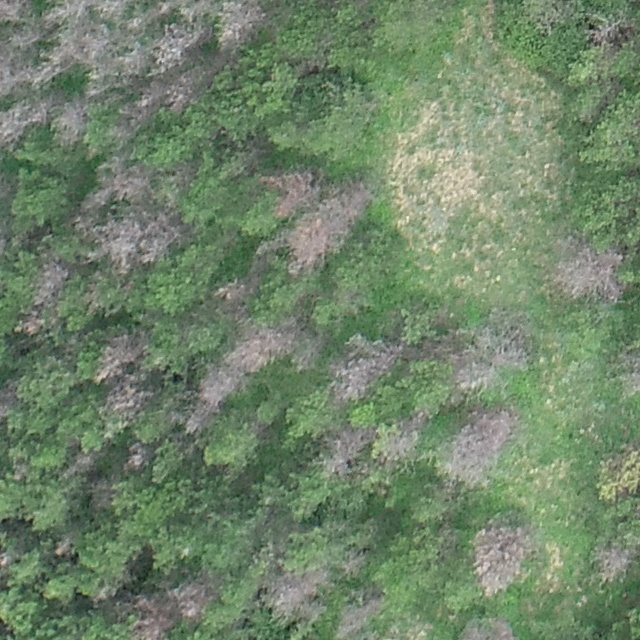unhealthy: (286, 184, 370, 271), (449, 320, 531, 391), (445, 405, 518, 481), (328, 337, 398, 406), (553, 242, 623, 301), (472, 524, 528, 594), (262, 566, 326, 621), (225, 323, 291, 373), (188, 366, 239, 429), (29, 33, 78, 92), (322, 423, 374, 477), (267, 167, 320, 217), (379, 410, 428, 464), (94, 332, 145, 383), (115, 83, 161, 139), (154, 22, 205, 72), (335, 588, 384, 639), (101, 214, 143, 273), (600, 441, 639, 498), (218, 0, 266, 46), (141, 212, 181, 264), (0, 35, 30, 101), (170, 577, 214, 621), (105, 161, 151, 203), (130, 596, 174, 639), (51, 97, 88, 146), (104, 381, 151, 419), (32, 259, 70, 304), (74, 185, 110, 232), (0, 100, 35, 147), (591, 543, 632, 581), (163, 71, 200, 113), (78, 28, 114, 67), (43, 0, 89, 28), (461, 616, 517, 639), (60, 448, 98, 479), (619, 343, 640, 397), (118, 46, 150, 78), (7, 25, 41, 53), (340, 549, 370, 579), (0, 376, 18, 424), (587, 21, 621, 45), (211, 277, 245, 301), (123, 441, 149, 471), (93, 0, 131, 20), (16, 309, 44, 335), (0, 0, 32, 22), (179, 0, 212, 20), (52, 533, 76, 558)
